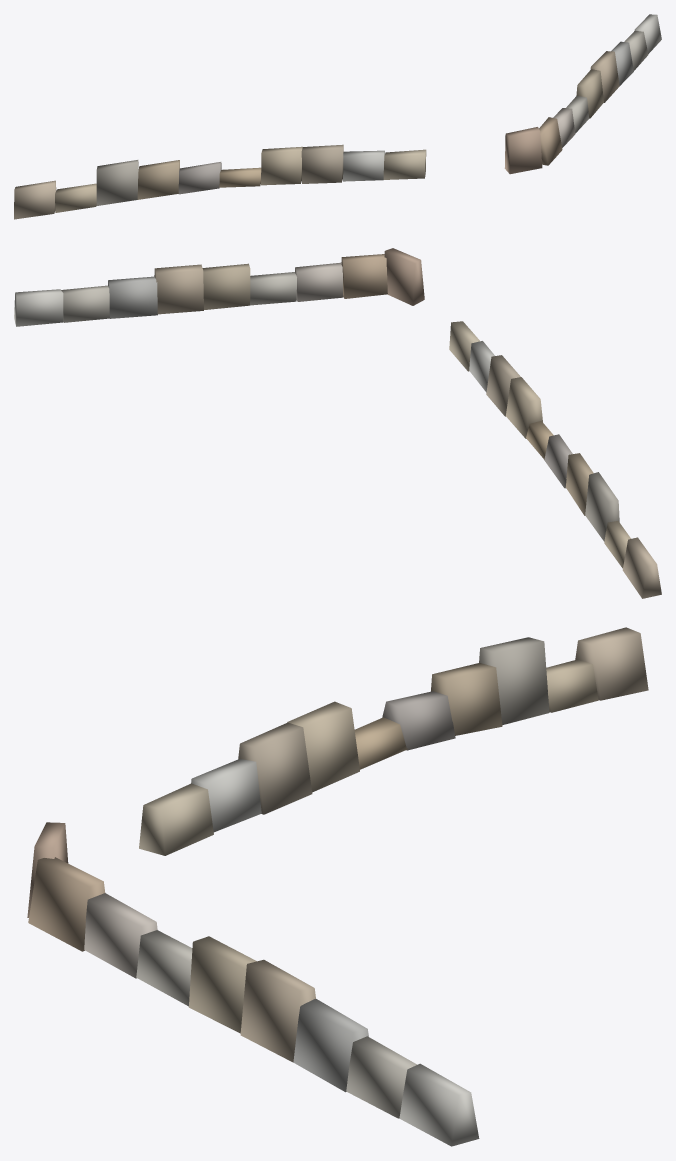
File: farm_-30_-33_far.glb
3 views of the same model, one above another, from view 1: azimuth 30°, elevation 25°; view 2: azimuth 150°, elevation 25°; view 3: azimuth 270°, elevation 25° (orthographic). The views are drawn at different scales.
Visible parts, largest first — view 1: geometry_0; view 2: geometry_0; view 3: geometry_0.
Boxes of the visible parts, x1,y1,x2,y2 form: geometry_0: (14, 14, 661, 219); geometry_0: (14, 248, 661, 598); geometry_0: (27, 627, 648, 1146).
Bounding box in the file's own units: 26.28 × 4.28 × 11.66.
